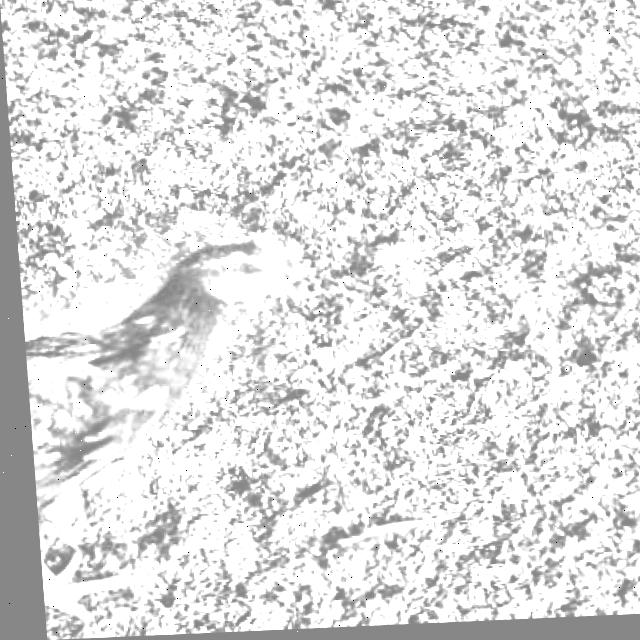Healthy: (211, 258, 258, 286)
